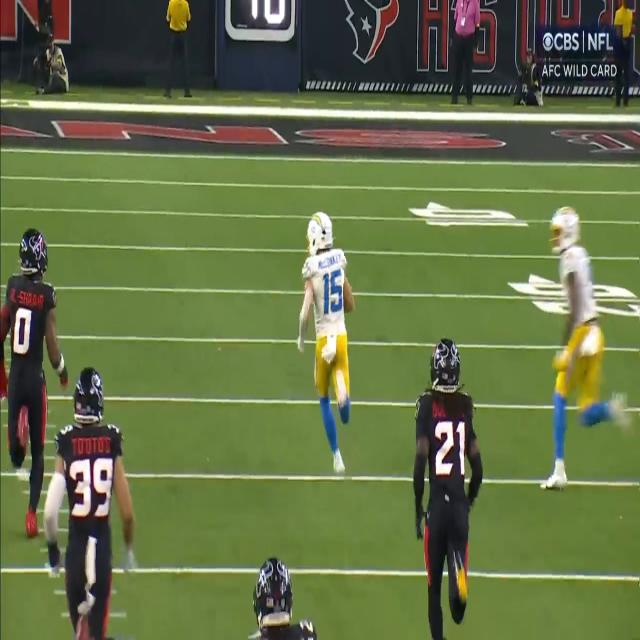Player: (51, 365, 126, 640), (413, 338, 482, 634), (544, 208, 602, 512), (294, 212, 358, 478), (0, 228, 46, 537)
